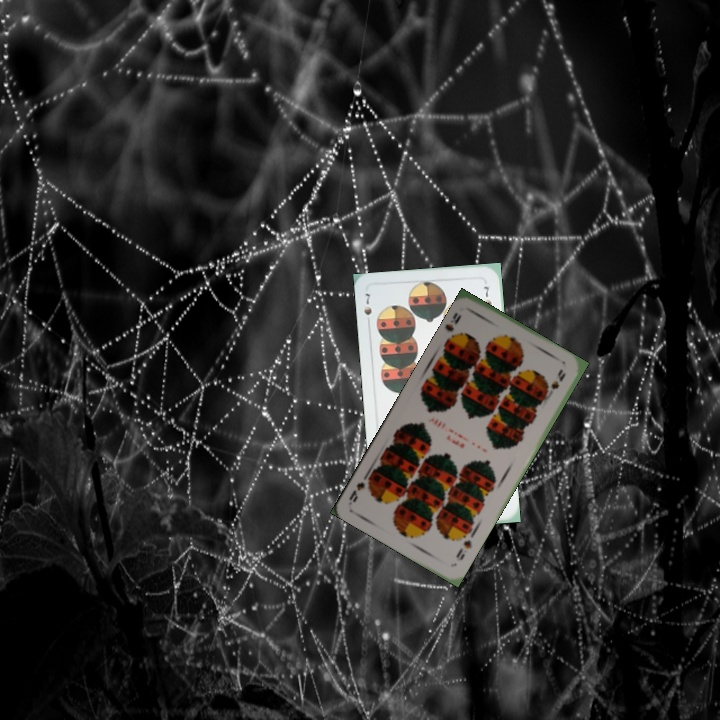S7: (360, 289, 375, 328)
S9: (442, 308, 464, 345), (452, 535, 474, 564)
